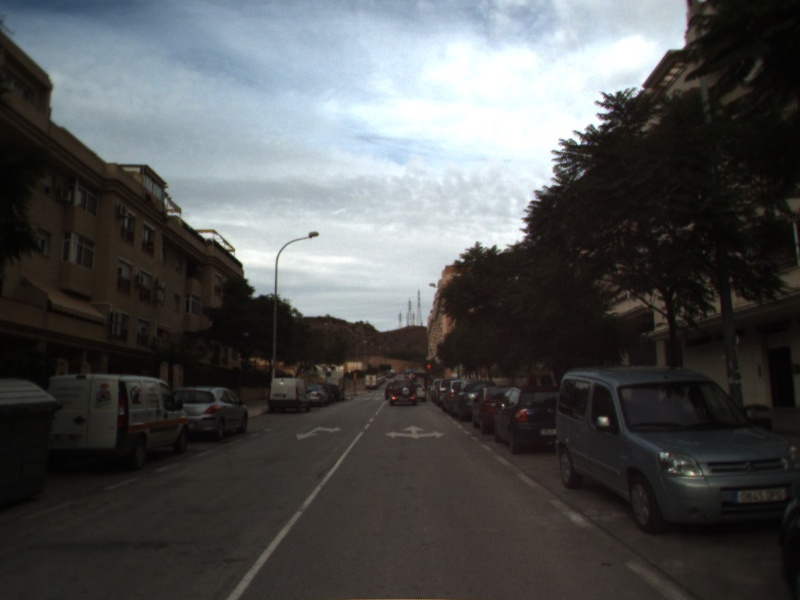STRAIGHT_LEFT_RIGHT: (383, 422, 447, 441)
